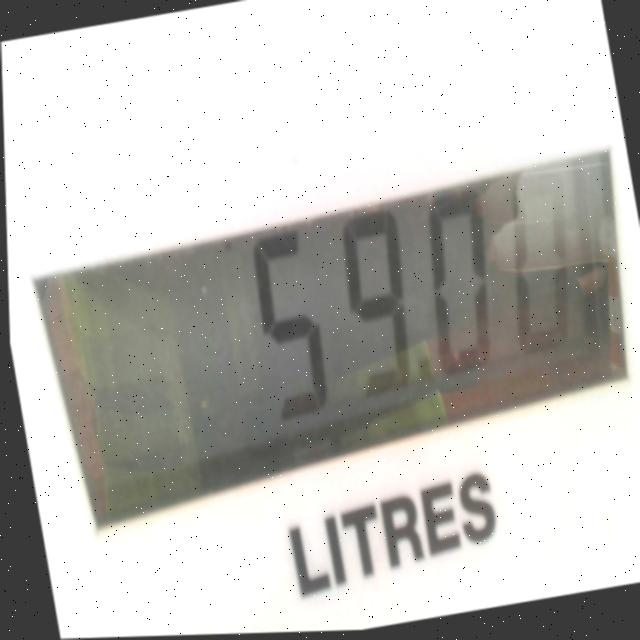.: (416, 355, 432, 389)
0: (495, 170, 586, 364), (418, 188, 504, 381)
5: (245, 232, 330, 425)
9: (334, 210, 418, 408)
